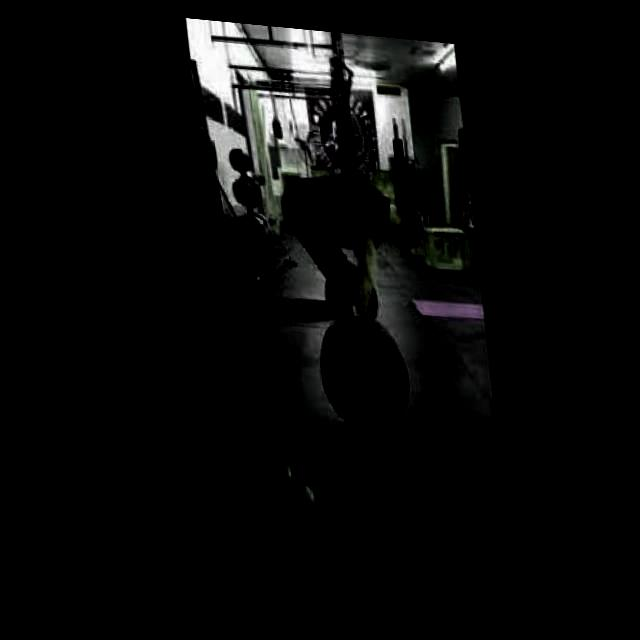barbell: (305, 308, 410, 430)
